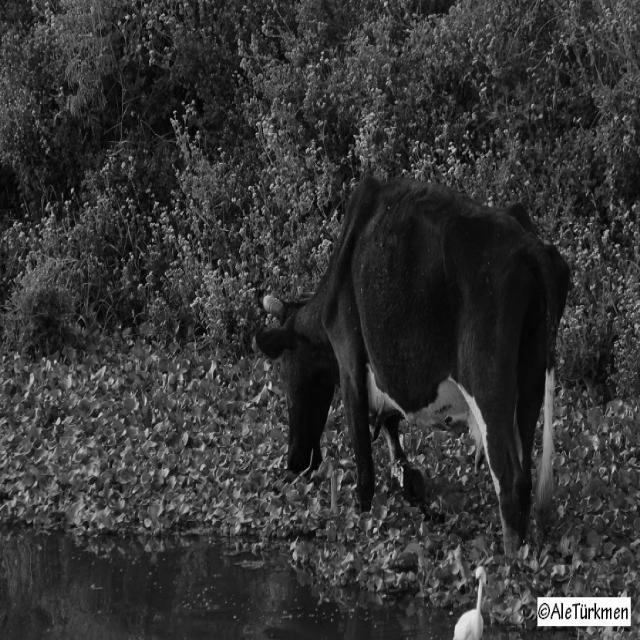cow: (256, 179, 569, 553)
